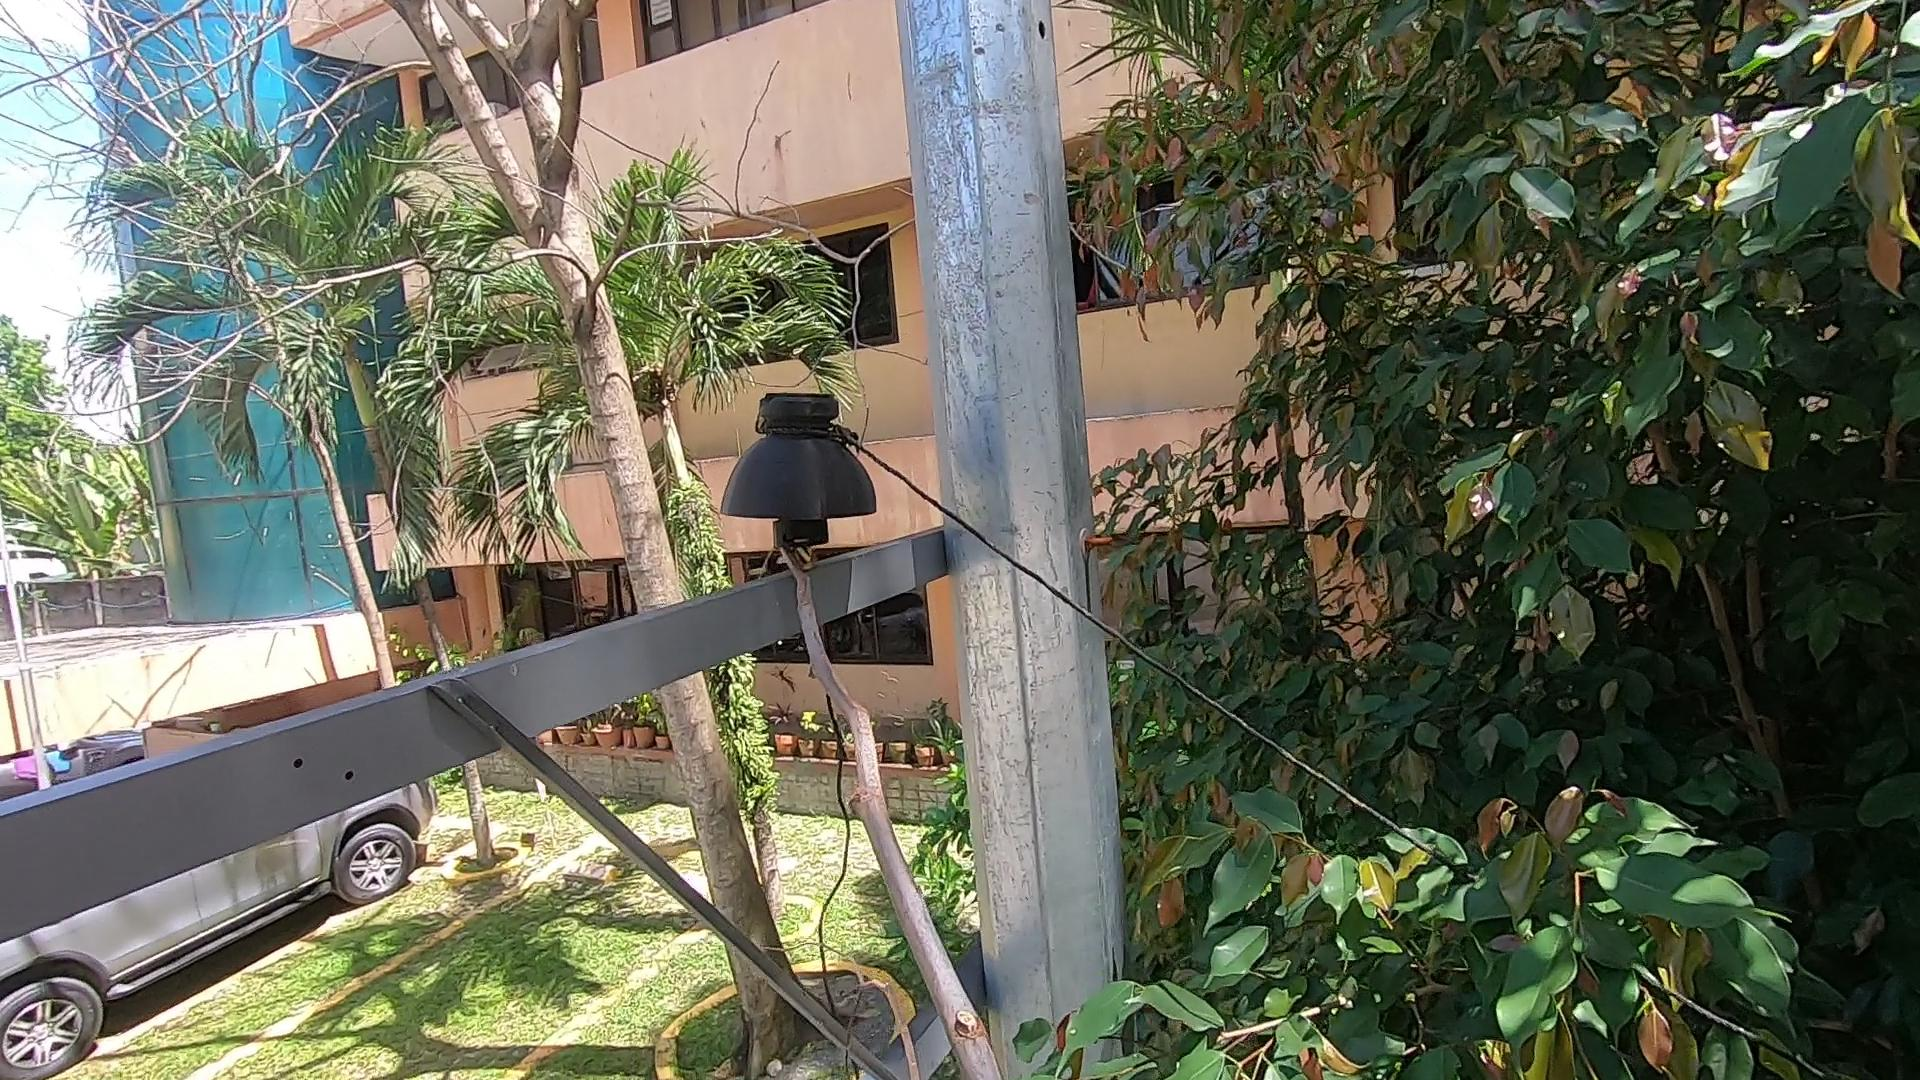branch with leaves: (1001, 972, 1218, 1080)
tree branch: (703, 491, 1034, 1080)
